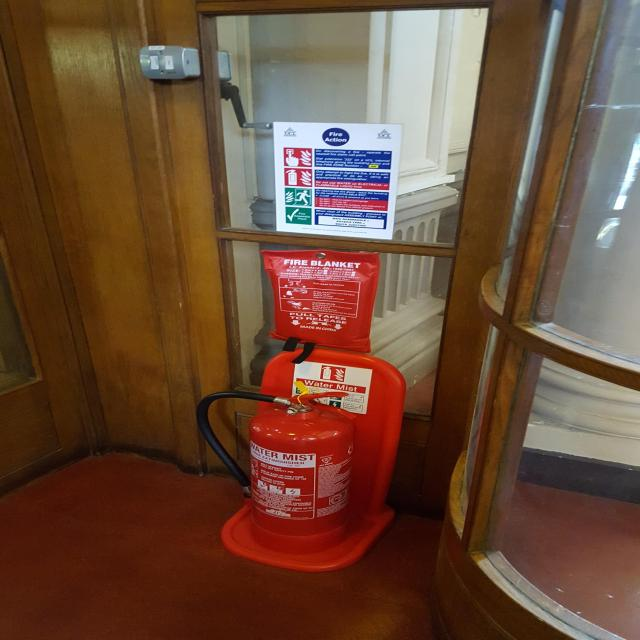fire_extinguisher: (196, 388, 371, 556)
